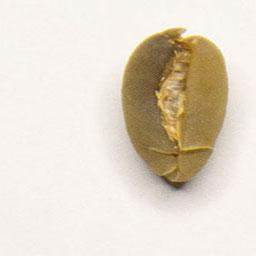premium: (119, 24, 234, 187)
